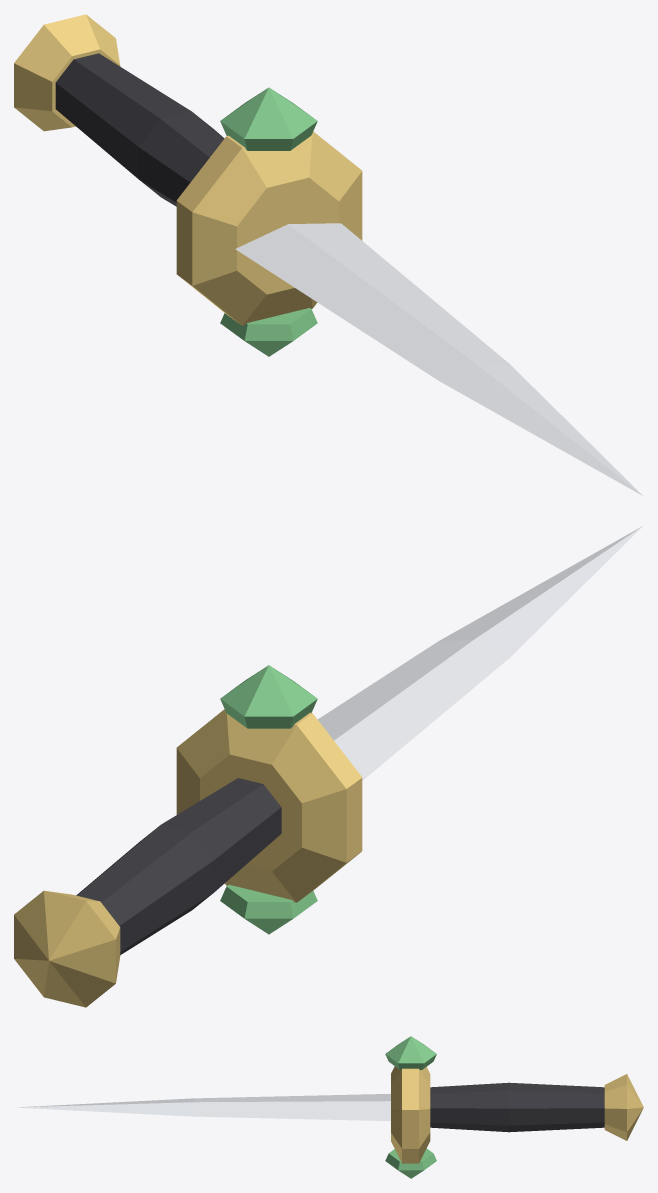
Rendered from venomkiss.glb.
3 views of the same model, one above another, from view 1: azimuth 30°, elevation 25°; view 2: azimuth 150°, elevation 25°; view 3: azimuth 270°, elevation 25° (orthographic). The views are drawn at different scales.
Visible parts, largest first — view 1: venomkiss; view 2: venomkiss; view 3: venomkiss.
Boxes of the visible parts, box(x1,y1,x2,y2) form: venomkiss: box(14, 14, 642, 495); venomkiss: box(14, 526, 642, 1007); venomkiss: box(14, 1036, 643, 1178).
Size of the model in its own units: 0.0924 by 0.14 by 0.56.
